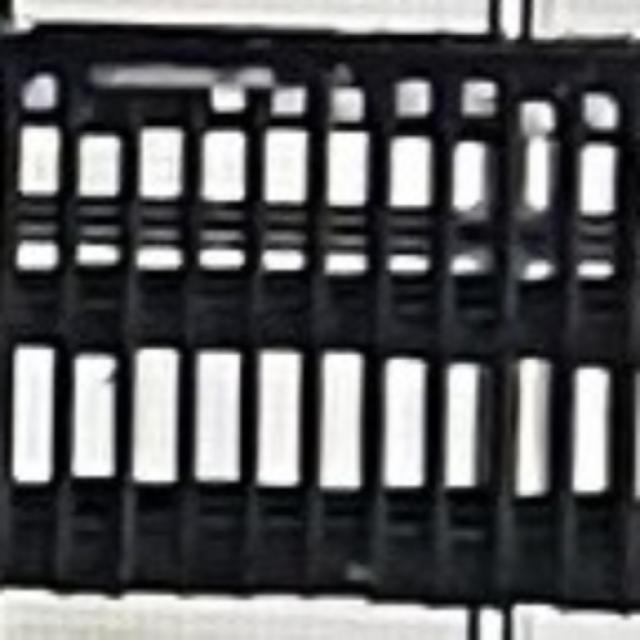igps: (365, 24, 443, 614), (564, 26, 639, 626), (433, 23, 508, 618), (183, 18, 259, 605), (306, 24, 378, 611), (502, 27, 571, 622), (0, 12, 69, 605), (62, 13, 130, 605), (123, 18, 190, 605), (251, 19, 315, 608)
